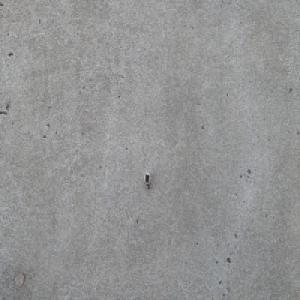MetalPart: (143, 171, 151, 191)
